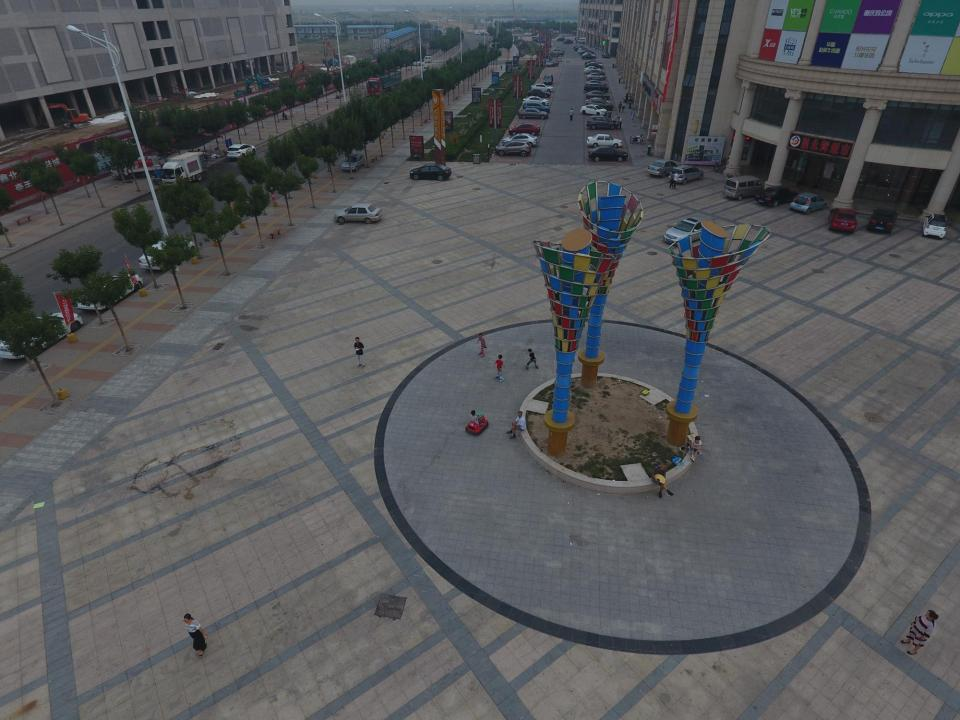car: (0, 312, 83, 358), (75, 274, 143, 310), (139, 239, 196, 270), (663, 216, 715, 244), (334, 204, 382, 223), (755, 186, 798, 207), (828, 208, 859, 233), (790, 193, 826, 214), (410, 163, 451, 181), (588, 146, 628, 161), (648, 158, 678, 178), (586, 134, 622, 148), (502, 133, 538, 147), (341, 153, 365, 171), (508, 123, 541, 135), (580, 104, 608, 116), (518, 108, 548, 119), (586, 97, 612, 108), (523, 96, 549, 106), (586, 90, 610, 100), (530, 84, 553, 92), (586, 80, 607, 88), (586, 73, 606, 81), (586, 69, 604, 77), (584, 66, 602, 74), (584, 60, 603, 67), (586, 62, 604, 68), (585, 63, 602, 69), (581, 54, 596, 60), (582, 52, 596, 58), (421, 66, 431, 74), (582, 49, 594, 55), (580, 50, 594, 55), (550, 47, 561, 53), (546, 61, 559, 66), (574, 46, 586, 51), (550, 52, 564, 56), (573, 45, 584, 50), (602, 52, 610, 58), (542, 43, 552, 47), (557, 38, 566, 42), (556, 36, 565, 40), (524, 32, 533, 36), (473, 31, 479, 35), (486, 32, 492, 36), (480, 32, 487, 35)
truck: (161, 152, 207, 187), (111, 155, 161, 180), (366, 71, 402, 97), (260, 78, 278, 92), (322, 58, 339, 67)
van: (723, 175, 764, 201), (866, 208, 900, 234), (668, 164, 704, 184), (922, 214, 946, 240), (495, 139, 531, 156), (586, 115, 619, 130), (226, 144, 256, 160), (585, 99, 614, 111), (522, 101, 550, 113), (584, 82, 608, 92), (409, 57, 425, 66), (543, 74, 553, 84), (420, 56, 432, 63), (577, 48, 590, 54), (577, 38, 587, 44), (562, 39, 574, 43), (489, 42, 495, 48), (564, 40, 572, 44), (488, 37, 491, 42)
